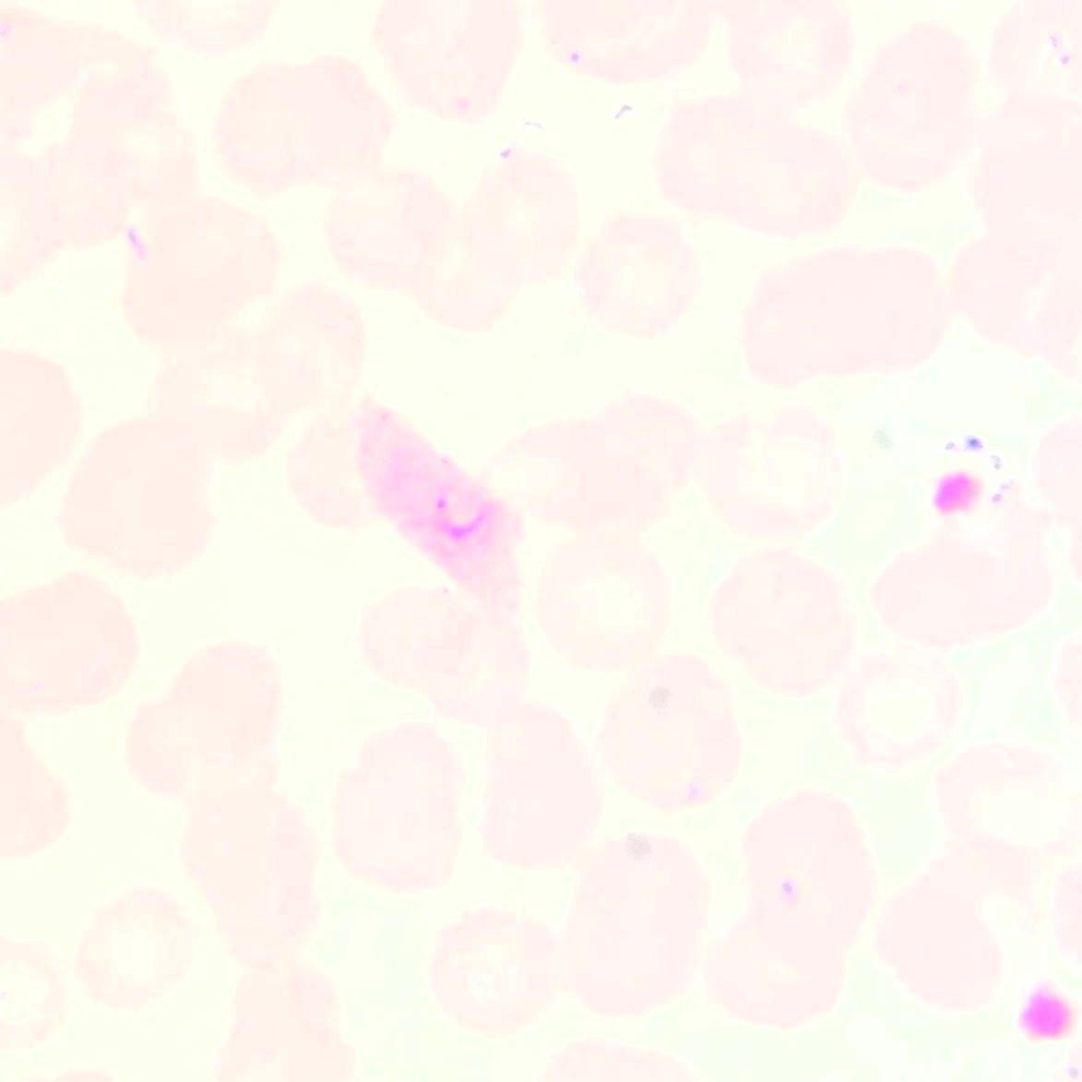Infected: (338, 401, 529, 614)
Uninfected: (329, 155, 508, 323), (191, 764, 330, 969), (744, 241, 937, 387), (569, 825, 728, 1000), (61, 431, 230, 590), (655, 102, 851, 237), (849, 0, 978, 186), (123, 204, 283, 348), (129, 631, 262, 799), (221, 63, 385, 192), (504, 395, 676, 518), (332, 721, 449, 900), (590, 662, 734, 807), (738, 788, 857, 957), (483, 702, 594, 881), (430, 893, 572, 1021), (713, 551, 847, 686), (0, 582, 146, 703), (867, 542, 1035, 641), (381, 0, 515, 124), (572, 207, 695, 342), (719, 917, 869, 1021), (68, 880, 191, 1000)
